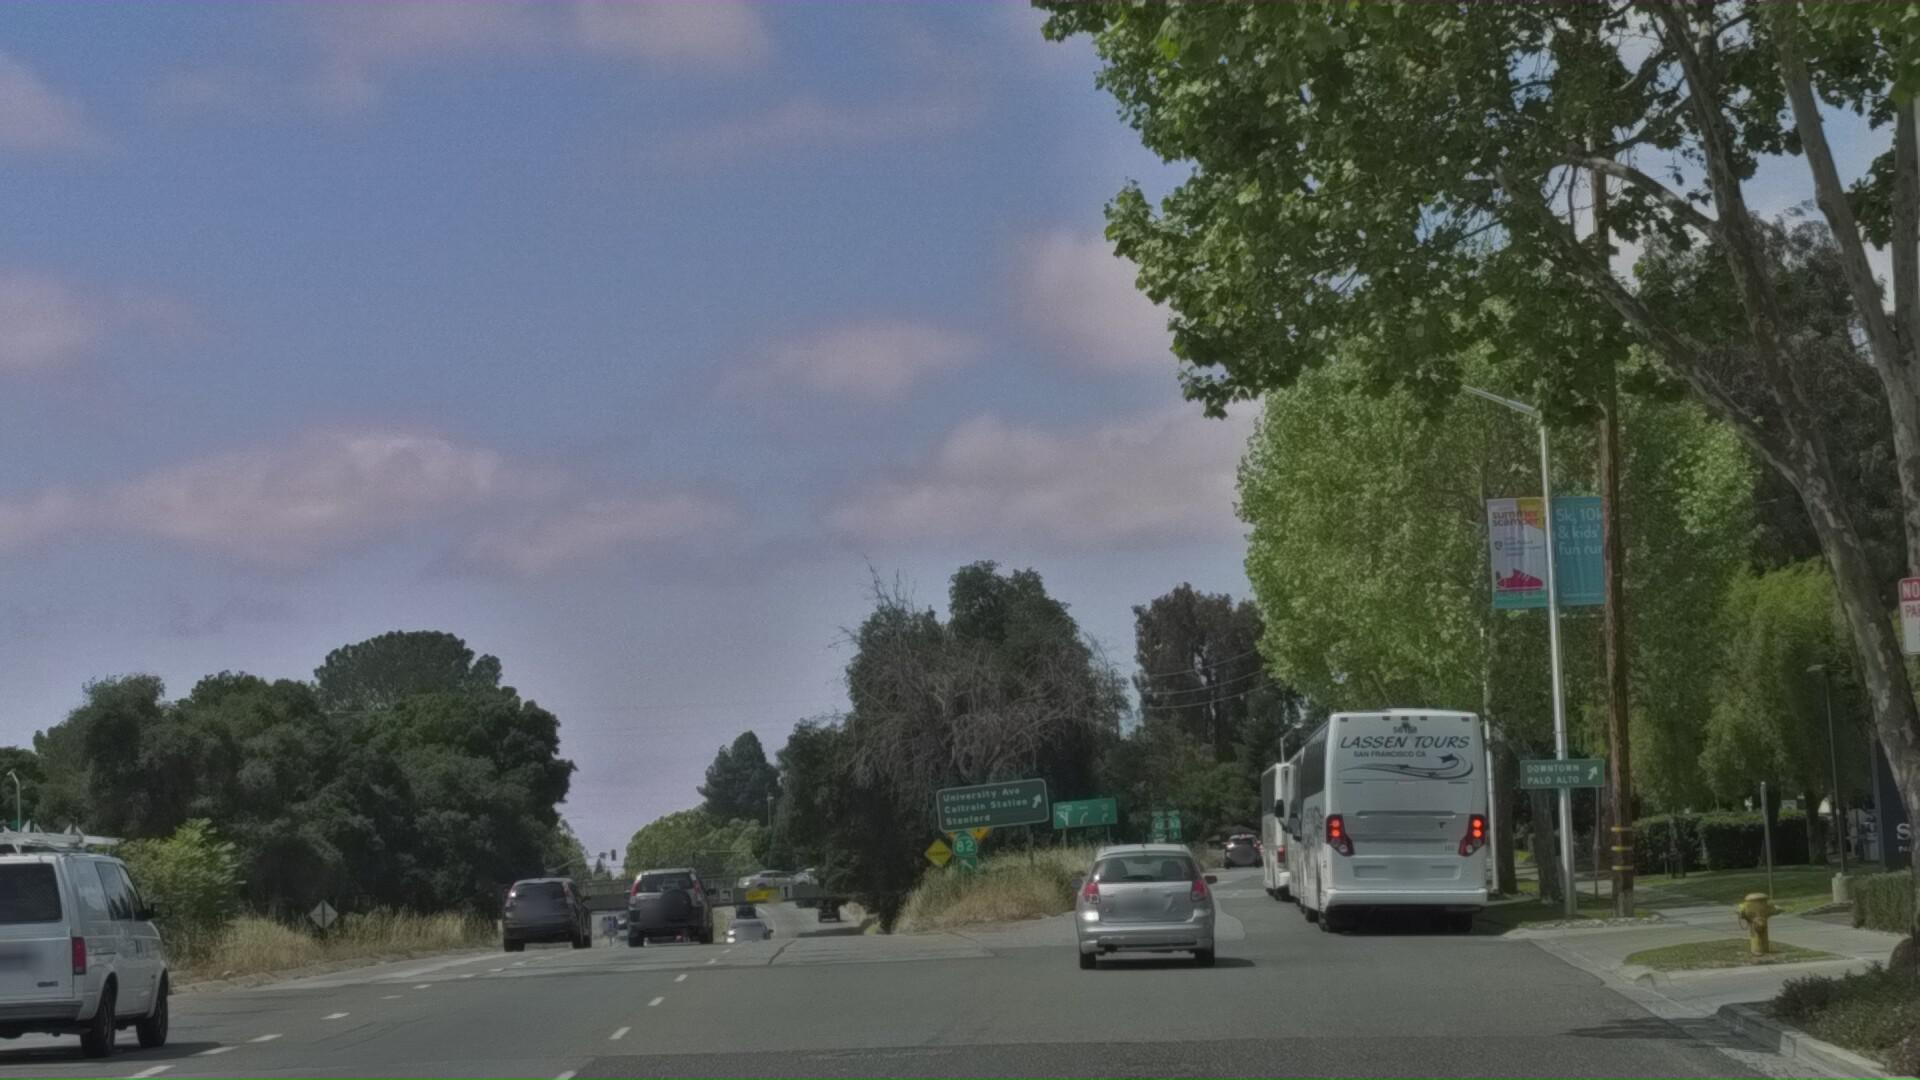bus: (1247, 800, 1506, 1054), (1246, 837, 1451, 1040)
car: (1060, 936, 1233, 1080), (626, 963, 728, 1051), (493, 971, 595, 1051)
